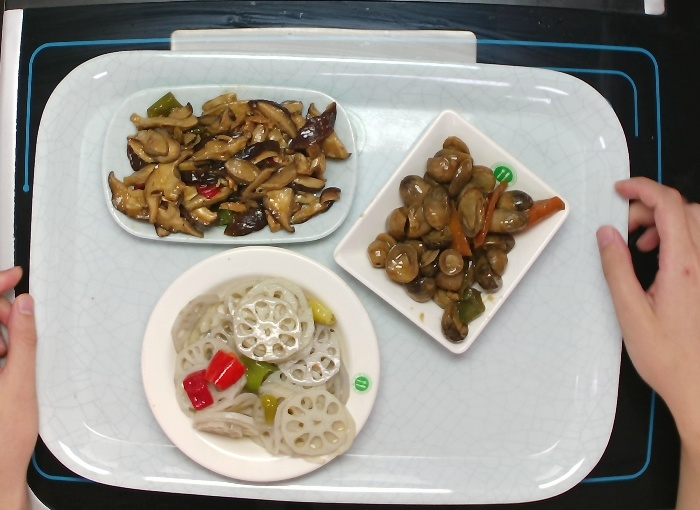WCQzf-Bai_Se_Si_Fang_Die: (331, 100, 574, 360)
WCQzf-Kuan_Bian_Yuan_Die: (137, 235, 384, 484)
WCQzf-Tuo_Yuan_Pan: (95, 79, 366, 252)
